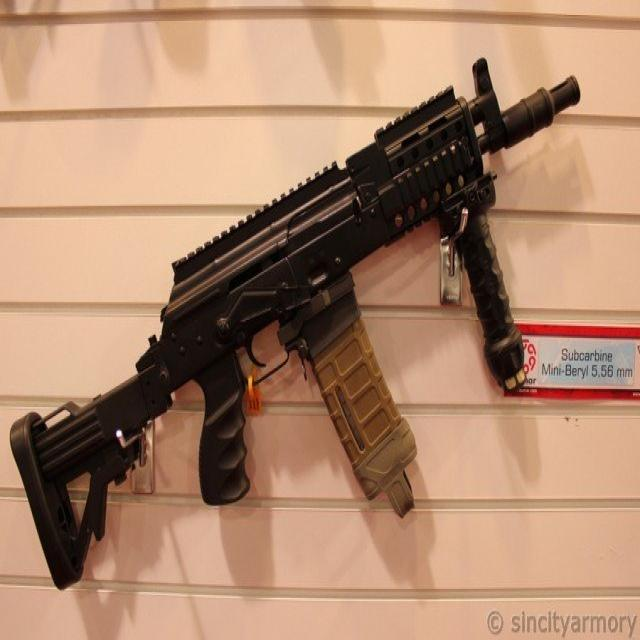firearm: (10, 55, 582, 590)
